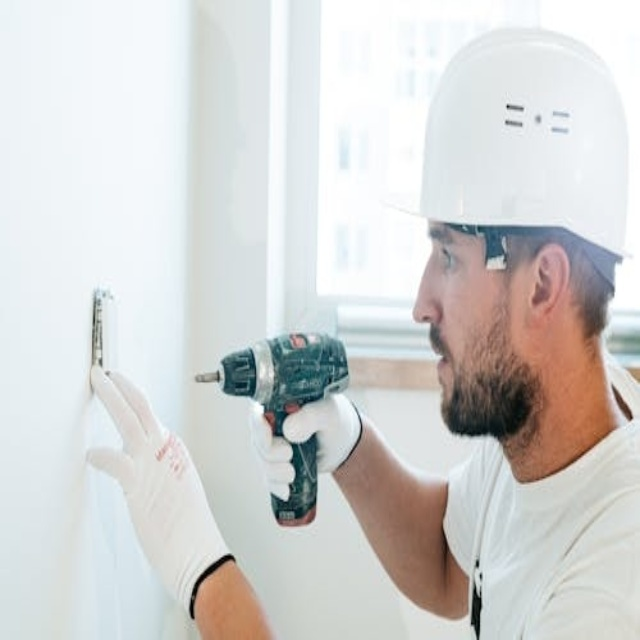Guantes: (85, 366, 234, 617), (275, 390, 365, 478)
Sin_gafas: (426, 225, 477, 281)
Sin_mascara: (424, 325, 480, 427)
